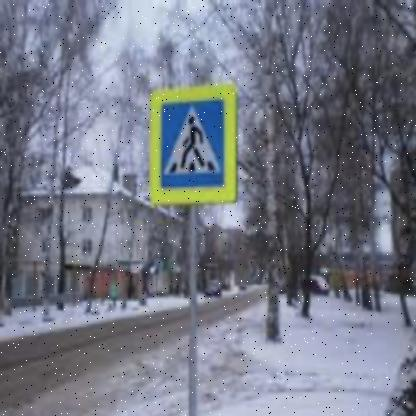Pedestrian Crossing: (162, 103, 223, 182)
